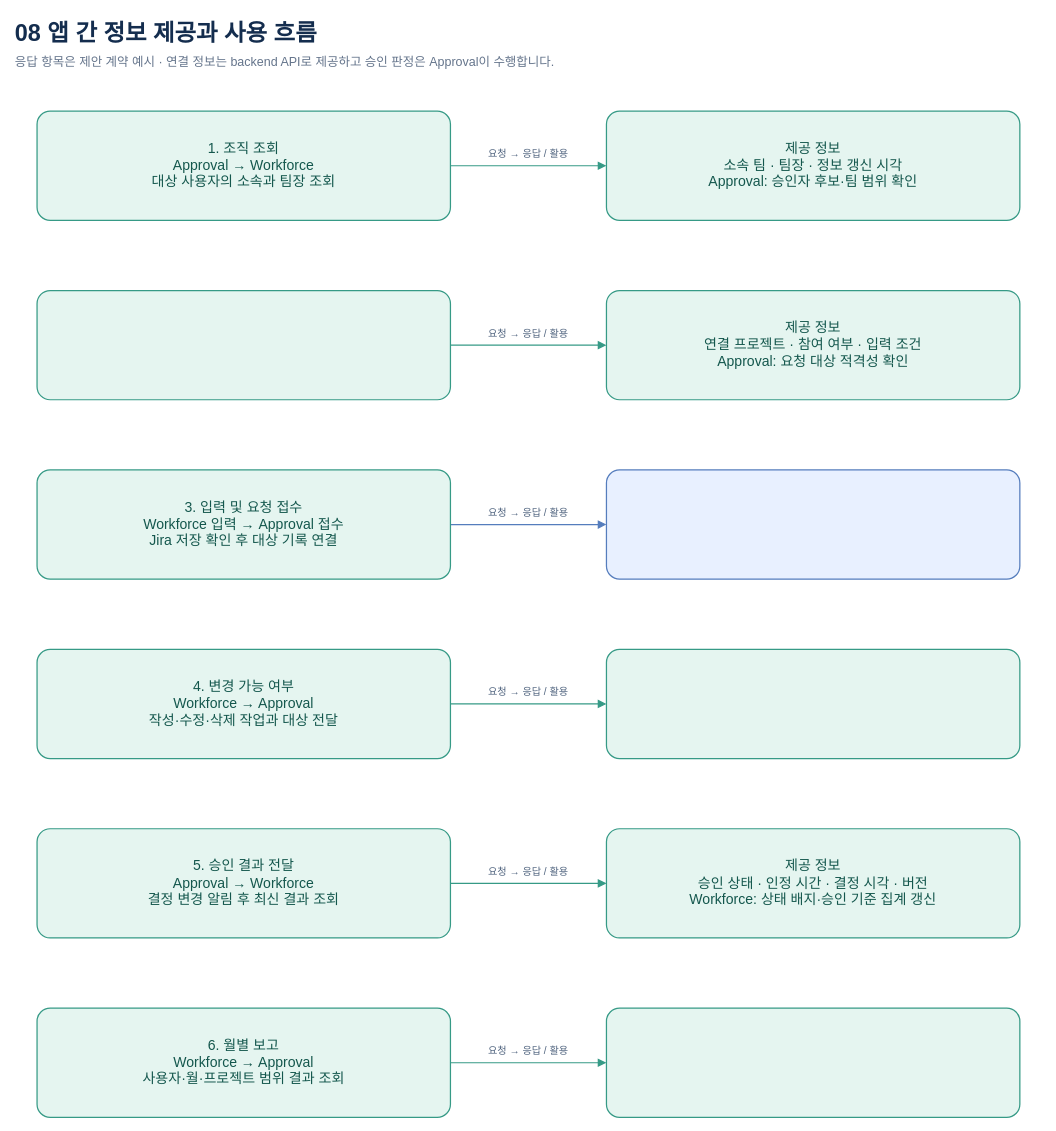
Some shapes in this 1056 by 1131 pixel diagram are drawn without their labels. Each missing label, with the centre of its shape:
"2. 업무 조건 조회 Approval → Workforce 이슈 · 프로젝트 · 사용자 기준 조회" goes at (243,345).
"제공 정보 건별 결과 · 대상 건수 · 합계 · 완전성 Workforce: 전체 대조 후 보고·SAP 자료 생성" goes at (812,1062).
"제공 정보 작업 기록 · 이슈 · 작업일 · 기록 시간 Approval: Jira 원본 대조 후 승인 대기 생성" goes at (812,524).
"제공 정보 허용 / 거부 / 보류 · 사유 · 잠금 상태 Workforce: 거부·보류 시 Jira 변경 중단" goes at (812,703).
